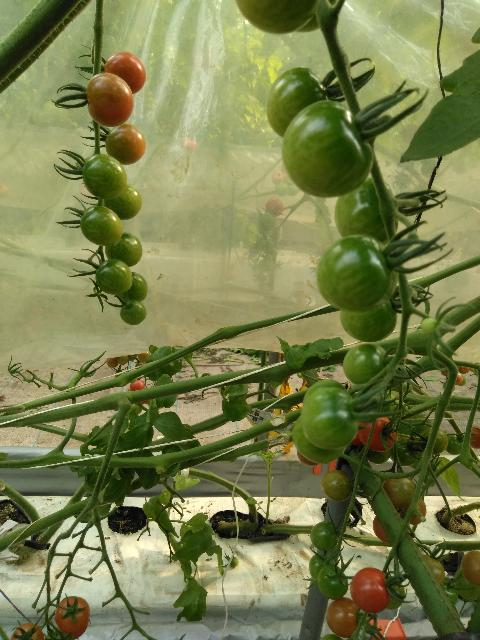l_fully_ripened: (103, 51, 147, 96), (349, 567, 391, 613), (357, 412, 397, 452), (130, 379, 145, 391)
l_green: (281, 100, 373, 198), (316, 235, 400, 312), (266, 66, 337, 138), (334, 178, 398, 245), (302, 387, 359, 450), (235, 0, 321, 35), (292, 412, 346, 464), (340, 298, 398, 343), (82, 153, 128, 200), (342, 343, 391, 386), (80, 205, 123, 247), (302, 380, 350, 411), (103, 184, 142, 221), (95, 258, 132, 295), (105, 232, 143, 268), (316, 564, 349, 600), (320, 469, 353, 501), (310, 521, 340, 552), (453, 568, 480, 602), (118, 272, 148, 301), (419, 427, 448, 456), (390, 439, 418, 467), (385, 574, 406, 610), (119, 299, 146, 325), (309, 554, 335, 580), (364, 444, 391, 465), (446, 433, 464, 455), (441, 581, 458, 604), (390, 399, 408, 418), (421, 318, 436, 333)
l_half_ripened: (87, 71, 134, 127), (104, 123, 146, 165), (326, 597, 361, 638), (54, 596, 90, 633), (383, 475, 416, 508), (394, 494, 427, 525), (422, 554, 445, 587), (461, 551, 480, 586), (10, 622, 44, 640), (373, 516, 391, 544), (107, 357, 120, 368), (137, 352, 151, 362), (117, 355, 130, 365)
